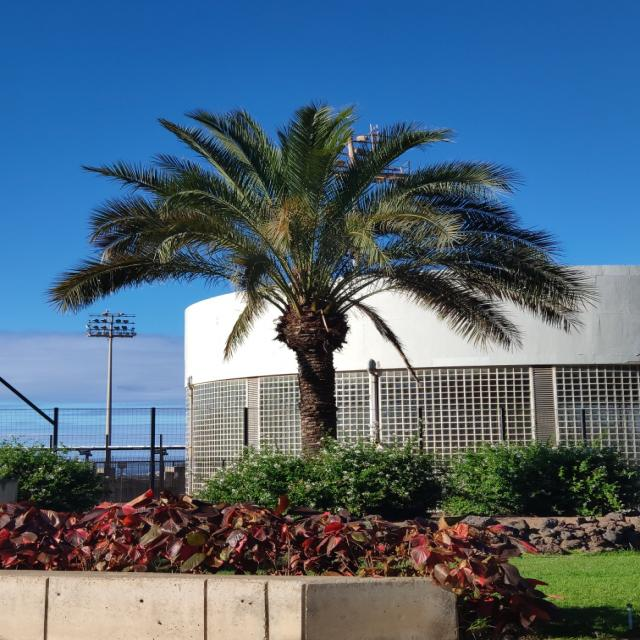Palm-Trees: (49, 104, 580, 463)
